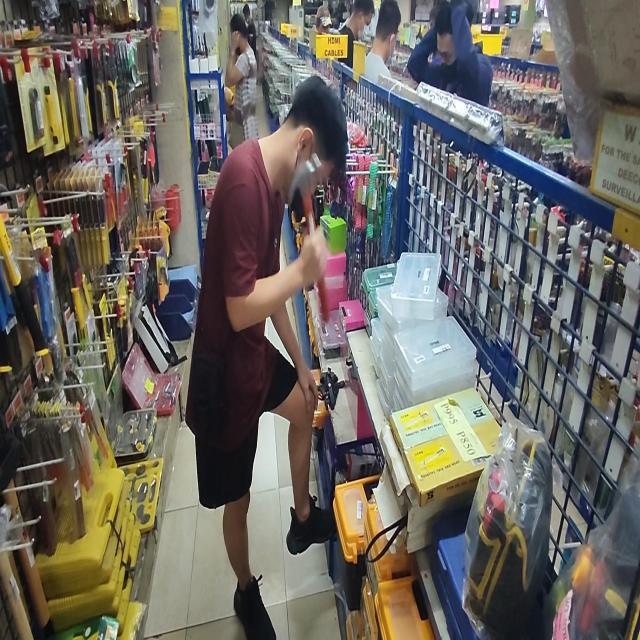hammer: (289, 152, 331, 323)
